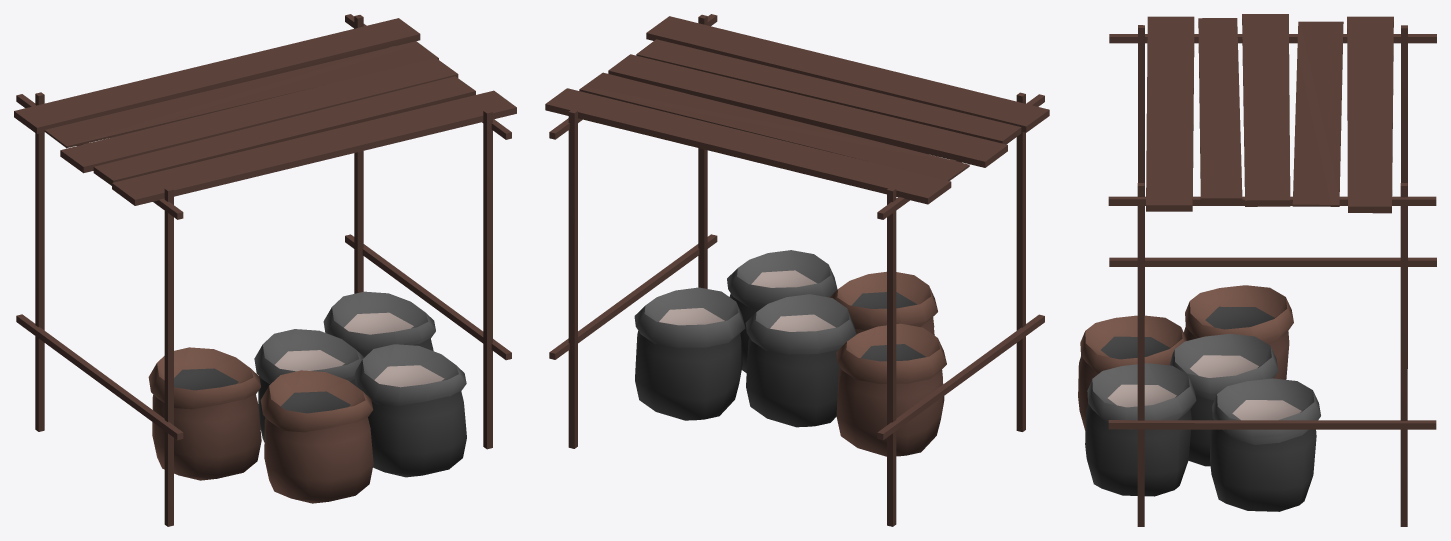
Rendered from stall_002.glb.
3 renders of one model, left to right at view 1: azimuth 30°, elevation 25°; view 2: azimuth 150°, elevation 25°; view 3: azimuth 270°, elevation 25°, orthographic.
Parts seen in each view (by area): view 1: stall_002; view 2: stall_002; view 3: stall_002.
Part boxes in pixels (x1,y1,x2,y2): stall_002: (14, 14, 516, 526); stall_002: (545, 14, 1049, 526); stall_002: (1078, 14, 1436, 526).
Bounding box in the file's own units: 2.89 × 2.4 × 2.27.
1 material, 1 textured.
